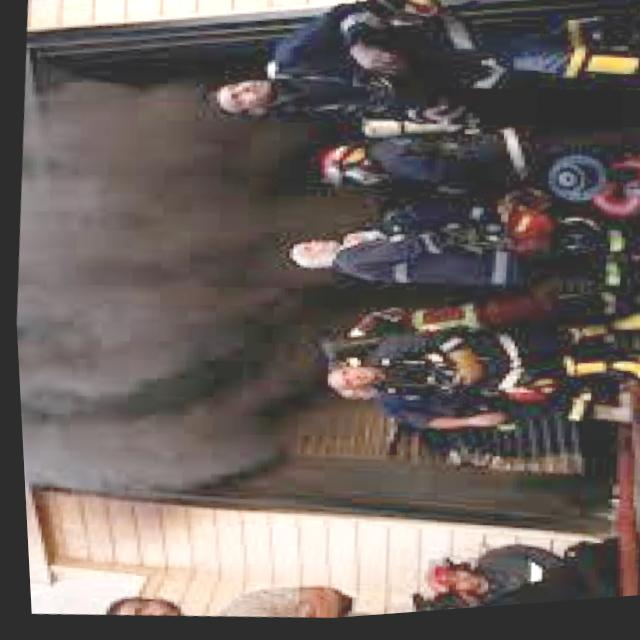Smoke: (3, 54, 347, 517)
